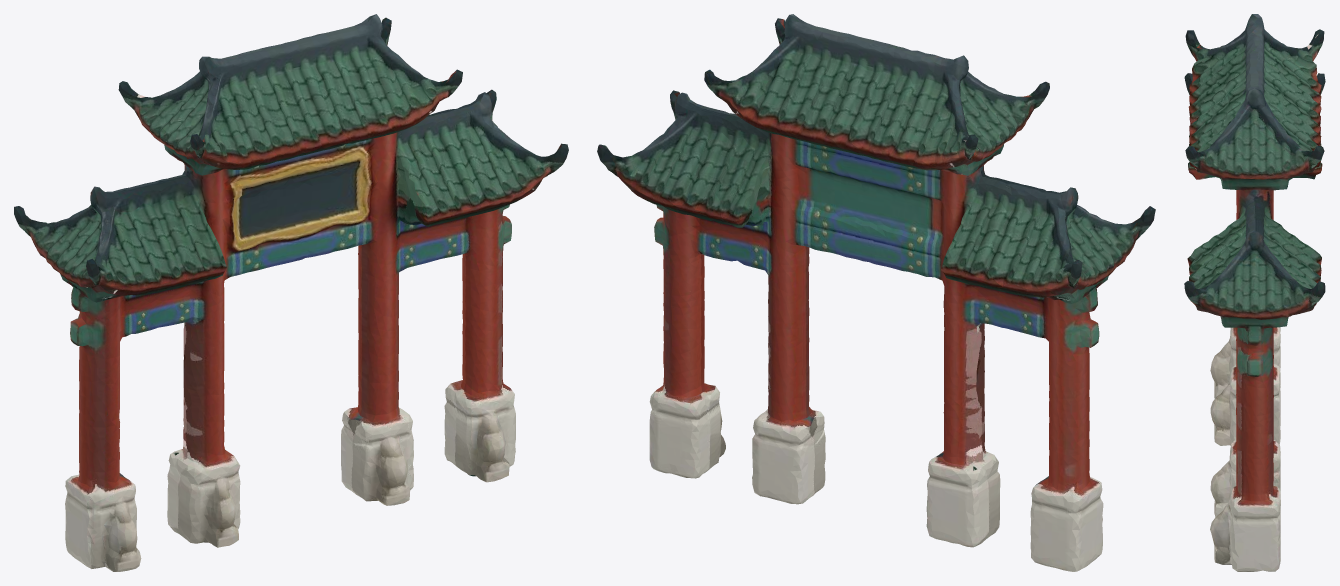
File: cong-son-mon.glb
3 renders of one model, left to right at view 1: azimuth 30°, elevation 25°; view 2: azimuth 150°, elevation 25°; view 3: azimuth 270°, elevation 25°, orthographic. The views are drawn at different scales.
Parts seen in each view (by area): view 1: world; view 2: world; view 3: world.
Part boxes in pixels (box(x1,y1,x2,y2)): world: box(14, 14, 568, 571); world: box(597, 14, 1155, 571); world: box(1184, 14, 1325, 571).
Size of the model in its own units: 1.99 by 1.88 by 0.5611.
1 material, 1 textured.
